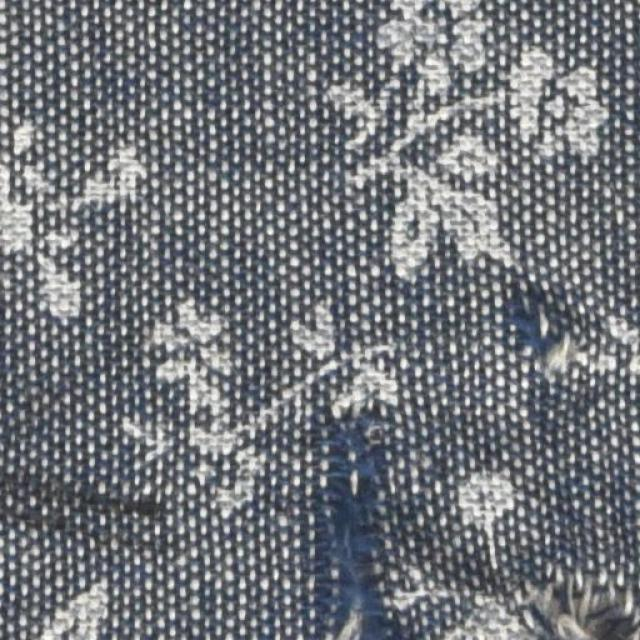Snag: (291, 417, 388, 640), (524, 563, 636, 640), (499, 291, 580, 387)
